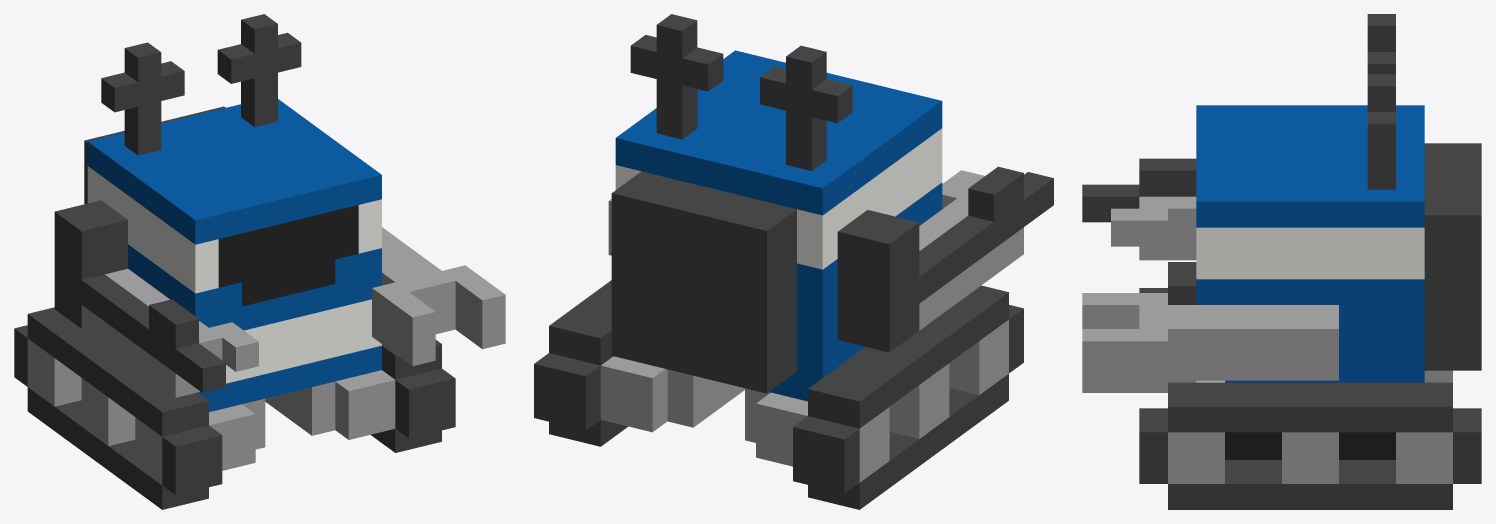
Rendered from Blue-13.obj.
3 renders of one model, left to right at view 1: azimuth 30°, elevation 25°; view 2: azimuth 150°, elevation 25°; view 3: azimuth 270°, elevation 25°, orthographic. The views are drawn at different scales.
Parts seen in each view (by area): view 1: Blue-13; view 2: Blue-13; view 3: Blue-13.
Boxes of the visible parts, x1=… form: Blue-13: x1=14, y1=14, x2=505, y2=509; Blue-13: x1=534, y1=14, x2=1053, y2=509; Blue-13: x1=1082, y1=14, x2=1481, y2=509.
Size of the model in its own units: 13 by 15 by 14.
Materials: 1 (1 with a texture image).
